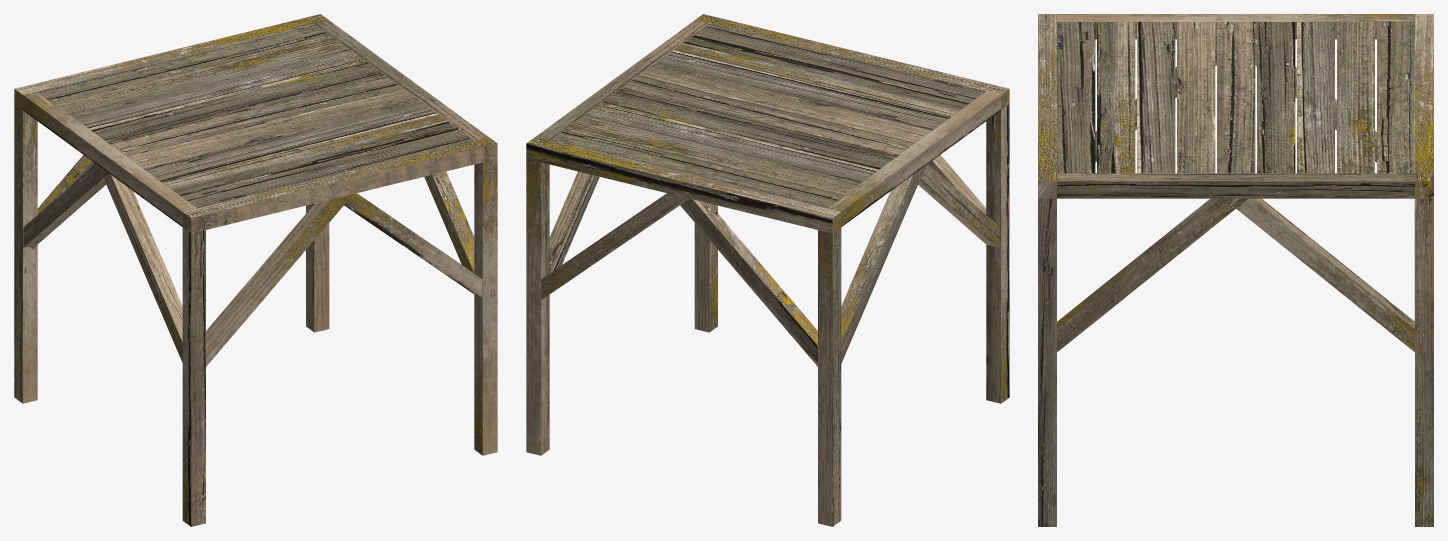
Rendered from floor1.004.glb.
3 views of the same model, side by side, from view 1: azimuth 30°, elevation 25°; view 2: azimuth 150°, elevation 25°; view 3: azimuth 270°, elevation 25° (orthographic). The views are drawn at different scales.
Parts seen in each view (by area): view 1: floor1.004; view 2: floor1.004; view 3: floor1.004.
Part boxes in pixels (bbox=[...]): floor1.004: bbox=[14, 14, 497, 526]; floor1.004: bbox=[526, 14, 1009, 526]; floor1.004: bbox=[1038, 14, 1433, 526].
Bounding box in the file's own units: 6.23 × 6 × 6.23.
1 material, 1 textured.
